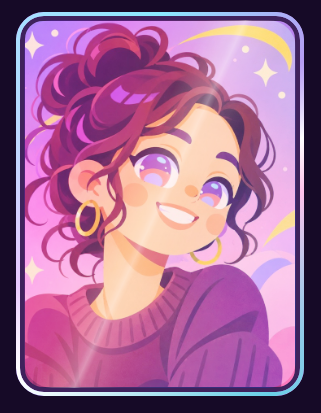
shows a neutral missing photo and still flips back
Press the mouse on the button "Fotografía aún no disponible" at {"x": 160, "y": 204}, box [16,12,304,396]
Wait 32 ms
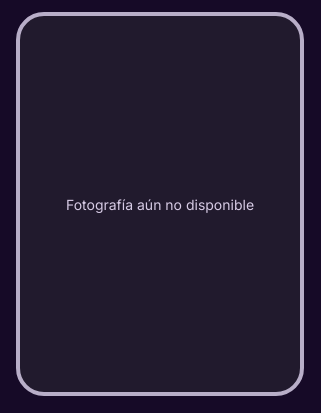
Expected: the text "Fotografía aún no disponible" is shown, [66,196,254,212]
Result: the button "Fotografía aún no disponible" has attribute data-rear="true"
